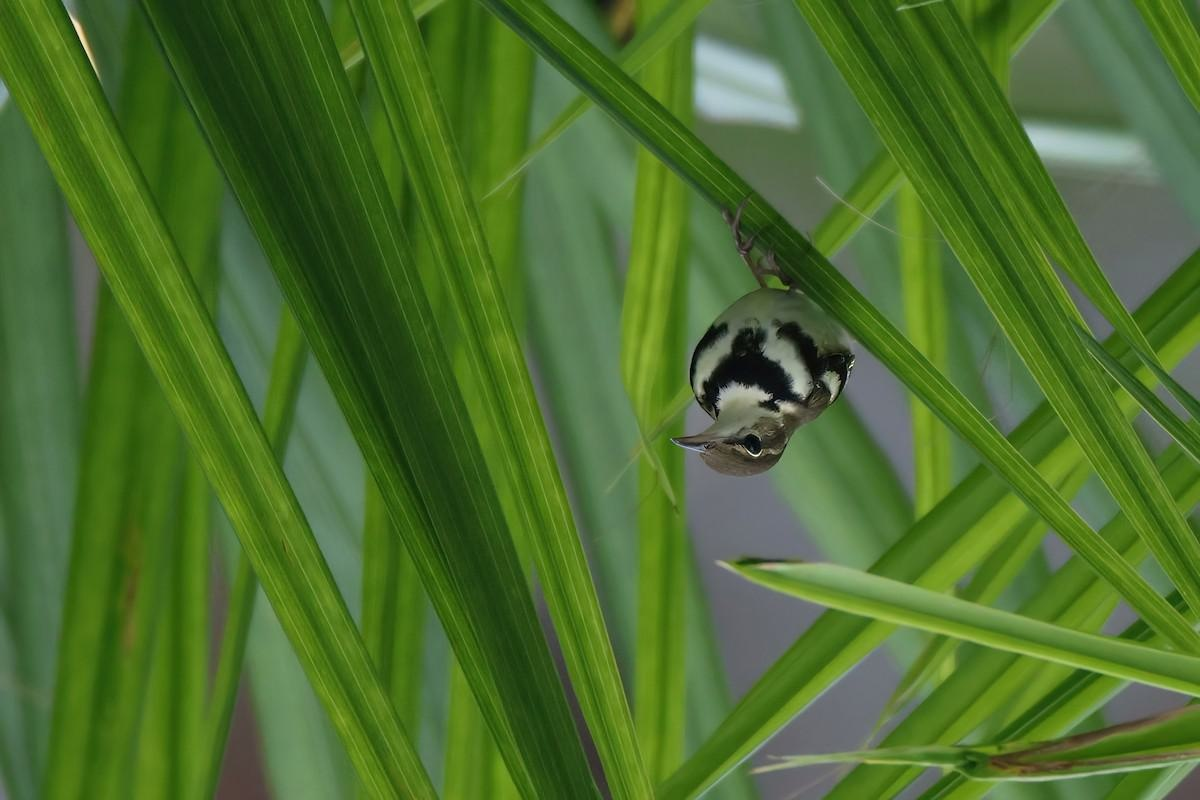wagtail: (658, 230, 876, 482)
